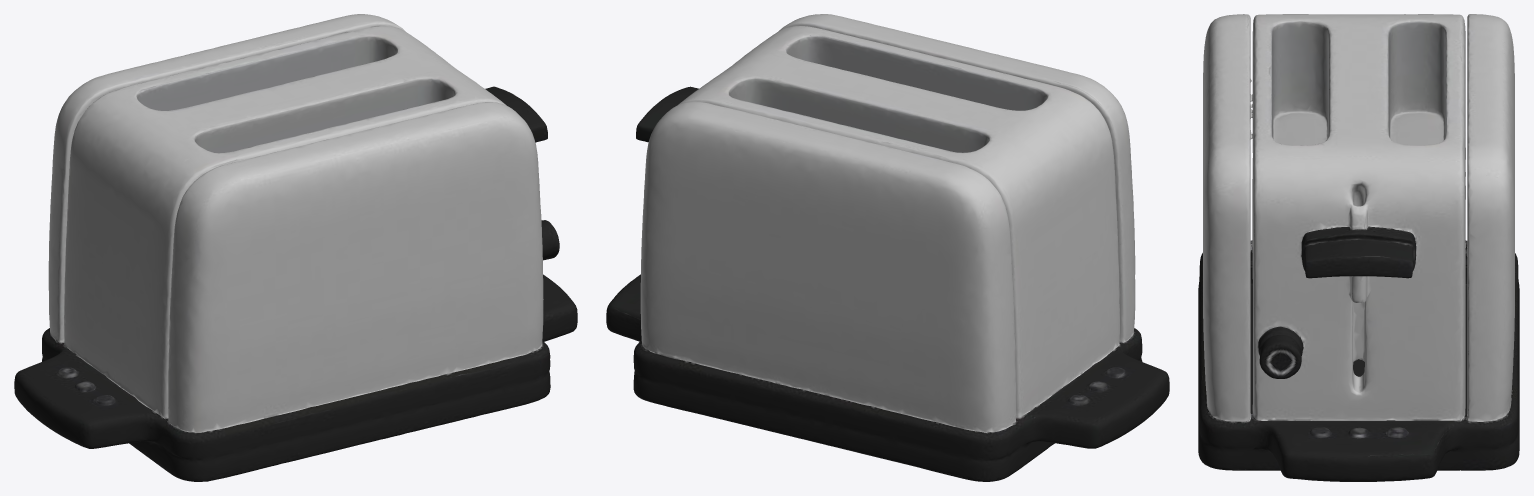
File: toaster.glb
3 renders of one model, left to right at view 1: azimuth 30°, elevation 25°; view 2: azimuth 150°, elevation 25°; view 3: azimuth 270°, elevation 25°, orthographic.
Visible parts, largest first — view 1: geometry_0; view 2: geometry_0; view 3: geometry_0.
Boxes of the visible parts, x1,y1,x2,y2 form: geometry_0: [14, 14, 577, 481]; geometry_0: [606, 14, 1169, 481]; geometry_0: [1198, 14, 1519, 481].
Size of the model in its own units: 1 by 0.5673 by 0.5391.
Materials: 1 (1 with a texture image).
